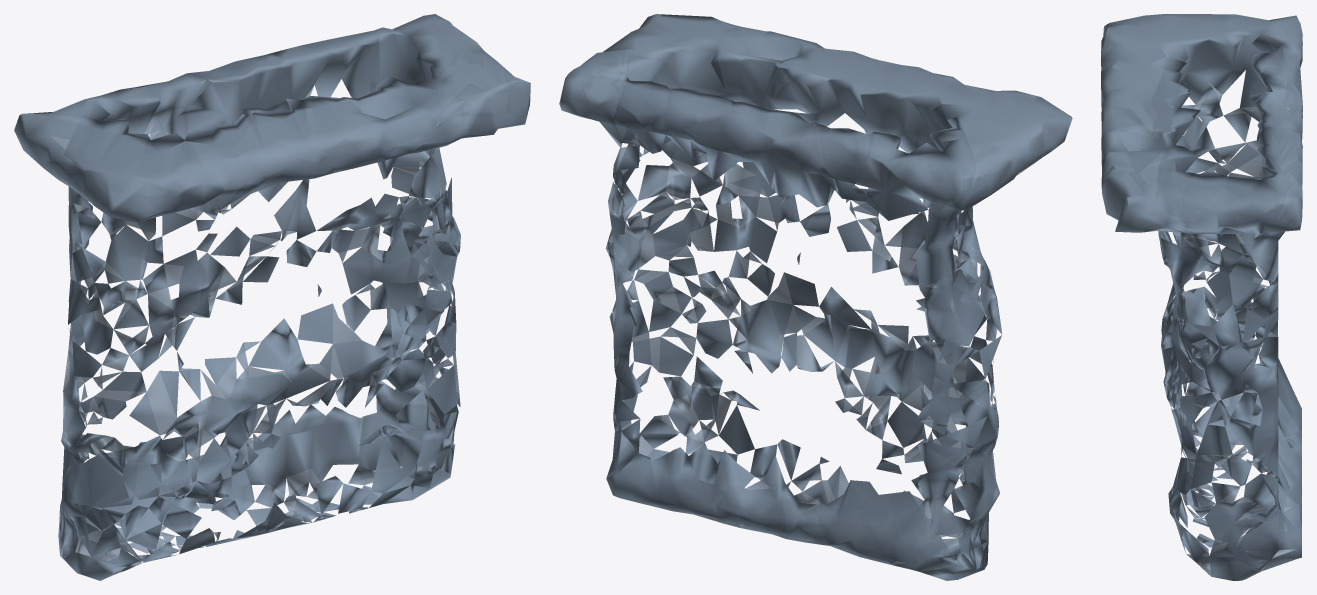
The model's file is bed_0131_original.obj.
The picture shows the model from 3 angles, left to right: view 1: azimuth 30°, elevation 25°; view 2: azimuth 150°, elevation 25°; view 3: azimuth 270°, elevation 25°; orthographic projection. The views are drawn at different scales.
Bounding box in the file's own units: 1.43 × 1.42 × 0.632.
